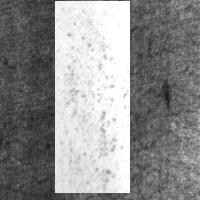crazing: (1, 107, 198, 189), (73, 19, 180, 81)
pitted_surface: (55, 1, 130, 193)
